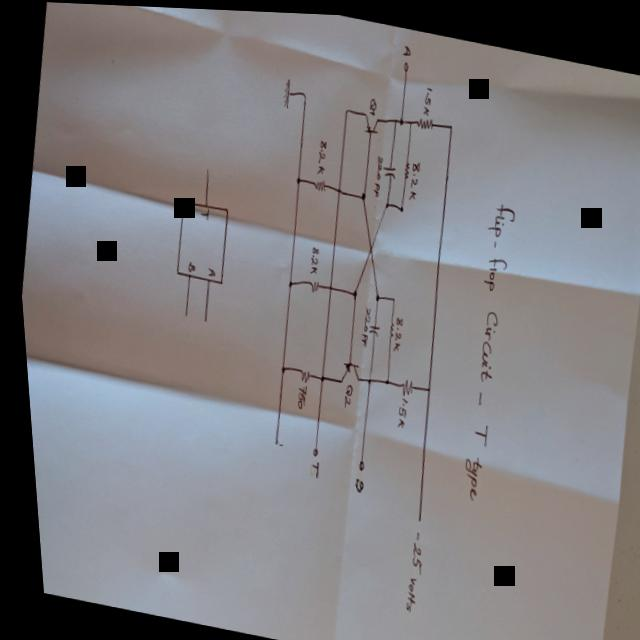capacitor: (379, 159, 396, 177), (363, 319, 377, 336)
crossover: (364, 240, 371, 251), (323, 280, 330, 290), (334, 182, 340, 192)
ground: (280, 72, 293, 108)
junction: (361, 367, 368, 382), (347, 283, 355, 296), (358, 186, 365, 199), (275, 360, 282, 372), (283, 275, 290, 286), (371, 288, 377, 299), (267, 433, 273, 444), (293, 172, 299, 182), (396, 200, 402, 210), (398, 112, 404, 122), (300, 87, 307, 95), (382, 196, 388, 205), (379, 373, 385, 382), (314, 371, 320, 380), (421, 380, 426, 390), (447, 117, 452, 127), (343, 103, 349, 110), (392, 113, 397, 119), (388, 292, 392, 299), (407, 116, 412, 121)
resistor: (392, 372, 411, 394), (414, 110, 434, 127), (309, 172, 326, 189), (302, 275, 317, 291), (292, 364, 307, 380), (400, 155, 410, 178), (383, 315, 392, 336)
terminal: (351, 455, 360, 468), (402, 56, 410, 69), (305, 443, 313, 454), (198, 315, 204, 322), (179, 310, 185, 317), (203, 163, 208, 170), (410, 512, 415, 519)
text: (436, 191, 532, 503), (391, 524, 423, 611), (367, 150, 385, 195), (404, 155, 421, 198), (353, 301, 369, 345), (311, 134, 328, 173), (385, 311, 402, 349), (389, 390, 405, 426), (419, 80, 434, 112), (303, 241, 318, 273), (289, 379, 305, 408), (336, 379, 350, 406), (366, 92, 378, 113), (303, 456, 315, 476), (346, 473, 358, 489), (401, 39, 413, 54), (183, 256, 194, 272), (197, 204, 208, 219), (202, 263, 214, 276)
transistor: (334, 355, 357, 383), (361, 108, 379, 132)
